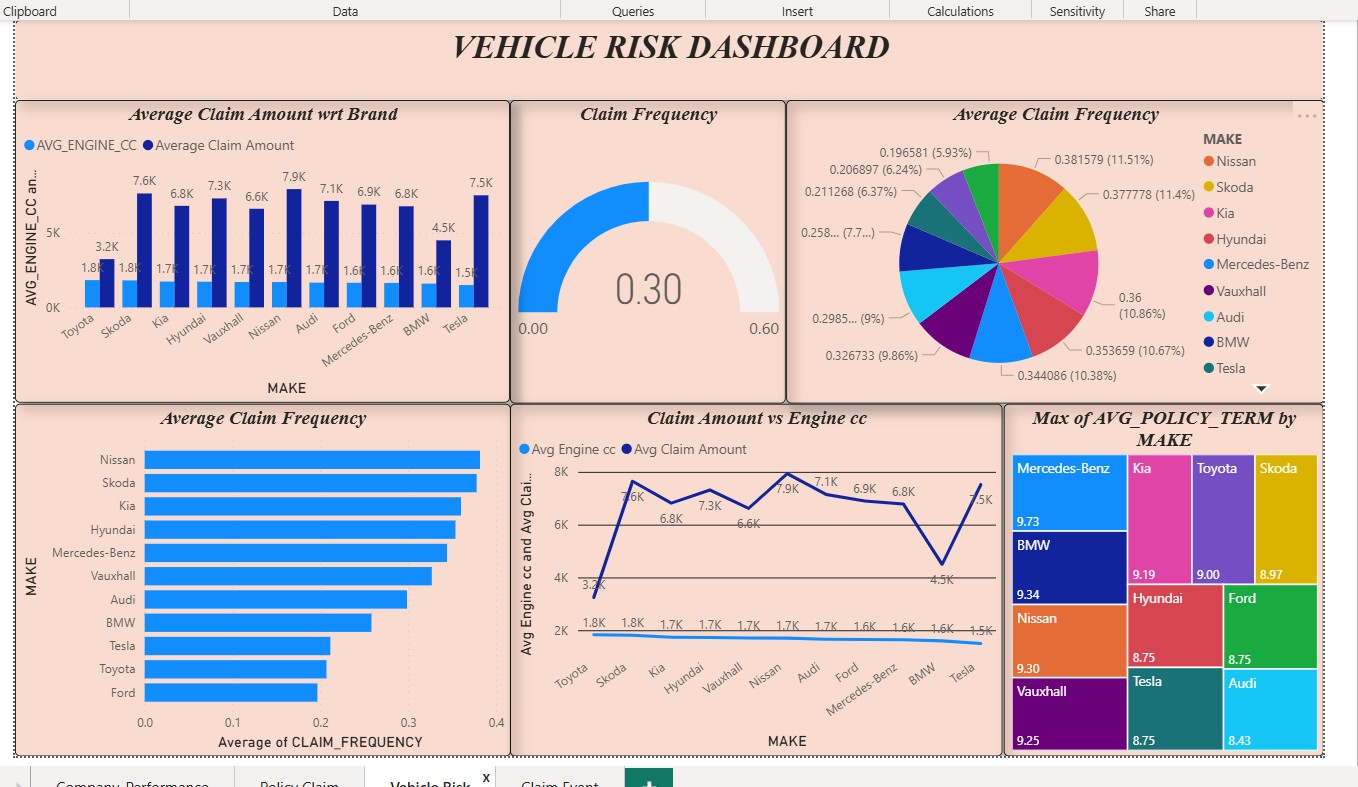

What the dashboard file says about the page in this screenshot:
{"tool":"powerbi","page":{"name":"Vehicle Risk","canvas":[1280,720],"ordinal":2},"visuals":[{"type":"textbox","box":[0,0,1280,78.5],"z":0},{"type":"gauge","title":"Claim Frequency","fields":{"Y":["Avg(FACT_VEHICLE_RISK_PROFILE.CLAIM_FREQUENCY)"]},"box":[484.6,78.3,269.4,296.5],"z":1000},{"type":"clusteredColumnChart","title":"Average Claim Amount wrt Brand","fields":{"Category":["FACT_VEHICLE_RISK_PROFILE.MAKE"],"Y":["Avg(FACT_VEHICLE_RISK_PROFILE.AVG_ENGINE_CC)","Sum(FACT_VEHICLE_RISK_PROFILE.AVG_CLAIM_AMOUNT)"]},"box":[0,78.4,484.1,296.1],"z":2000},{"type":"clusteredBarChart","title":"Average Claim Frequency","fields":{"Category":["FACT_VEHICLE_RISK_PROFILE.MAKE"],"Y":["Avg(FACT_VEHICLE_RISK_PROFILE.CLAIM_FREQUENCY)"]},"box":[0,374.7,484.6,344.6],"z":3000},{"type":"lineChart","title":"Claim Amount vs Engine cc","fields":{"Category":["FACT_VEHICLE_RISK_PROFILE.MAKE"],"Y":["Avg(FACT_VEHICLE_RISK_PROFILE.AVG_ENGINE_CC)","Max(FACT_VEHICLE_RISK_PROFILE.AVG_CLAIM_AMOUNT)"]},"box":[484.6,374.7,481.5,344.6],"z":4000},{"type":"pieChart","title":"Average Claim Frequency","fields":{"Category":["FACT_VEHICLE_RISK_PROFILE.MAKE"],"Y":["Avg(FACT_VEHICLE_RISK_PROFILE.CLAIM_FREQUENCY)"]},"box":[753.9,78.3,526.7,296.5],"z":5000},{"type":"treemap","fields":{"Group":["FACT_VEHICLE_RISK_PROFILE.MAKE"],"Values":["Max(FACT_VEHICLE_RISK_PROFILE.AVG_POLICY_TERM)"]},"box":[967,375,313,345],"z":6000}]}

Visuals, with their boxes on the page's 1280x720 design canvas (x1, y1, x2, y2). These are canvas units, not pixel positions in the 1358x787 screenshot, which may show the page scaled, cropped or inside an application window:
textbox: <region>0, 0, 1280, 78</region>
"Claim Frequency" gauge: <region>485, 78, 754, 375</region>
"Average Claim Amount wrt Brand" clusteredColumnChart: <region>0, 78, 484, 374</region>
"Average Claim Frequency" clusteredBarChart: <region>0, 375, 485, 719</region>
"Claim Amount vs Engine cc" lineChart: <region>485, 375, 966, 719</region>
"Average Claim Frequency" pieChart: <region>754, 78, 1281, 375</region>
treemap - FACT_VEHICLE_RISK_PROFILE.MAKE x Max(FACT_VEHICLE_RISK_PROFILE.AVG_POLICY_TERM): <region>967, 375, 1280, 720</region>
